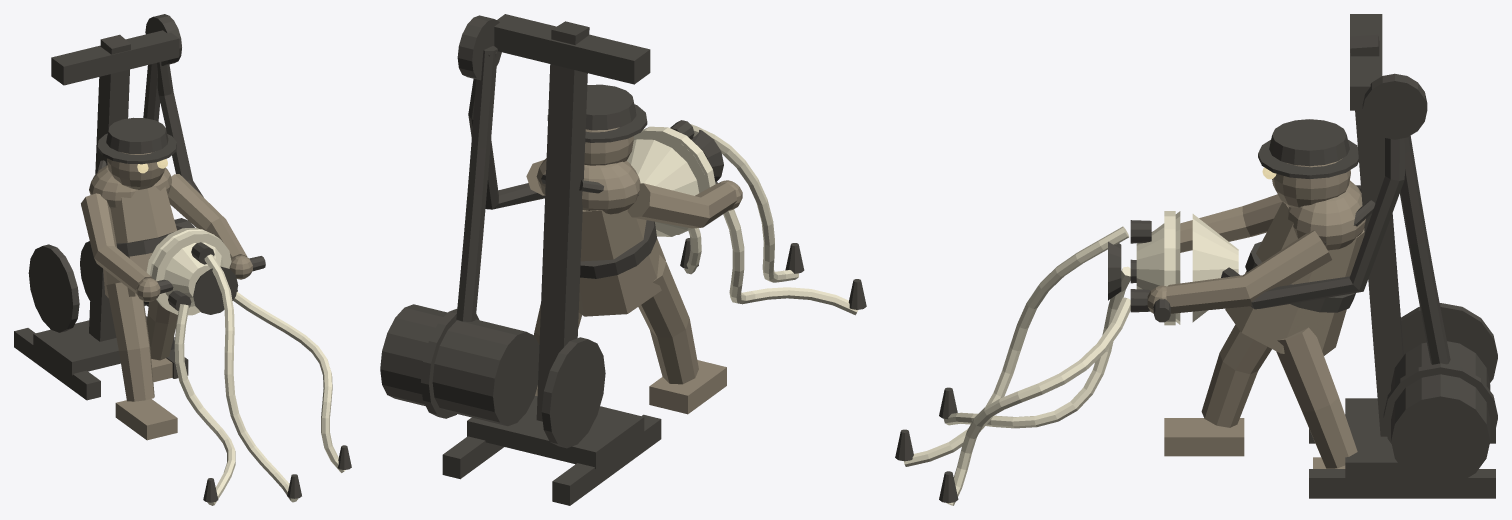
The model's file is roper.glb.
3 views of the same model, side by side, from view 1: azimuth 30°, elevation 25°; view 2: azimuth 150°, elevation 25°; view 3: azimuth 270°, elevation 25° (orthographic). The views are drawn at different scales.
Parts seen in each view (by area): view 1: roper_dark, roper_body, roper_bone; view 2: roper_dark, roper_body, roper_bone; view 3: roper_dark, roper_body, roper_bone.
Boxes of the visible parts, <box> form: roper_dark: <box>14,14,351,502</box>; roper_body: <box>81,152,252,440</box>; roper_bone: <box>146,227,345,505</box>; roper_dark: <box>380,14,866,505</box>; roper_body: <box>526,127,742,414</box>; roper_bone: <box>627,124,858,315</box>; roper_dark: <box>895,14,1497,503</box>; roper_body: <box>1147,158,1365,468</box>; roper_bone: <box>903,211,1238,505</box>.
Size of the model in its own units: 1.36 by 2.46 by 3.15.
